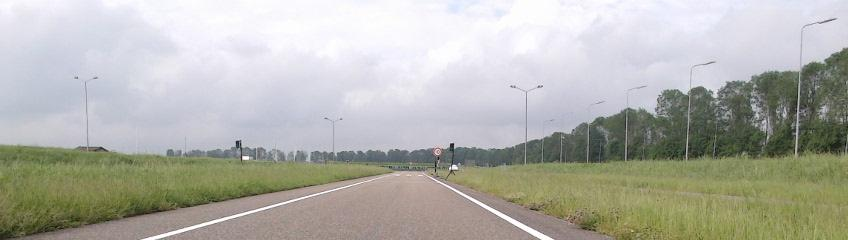Speed-limit-10km-h-: (433, 148, 443, 156)
TrafficLight-green: (450, 143, 454, 151)
